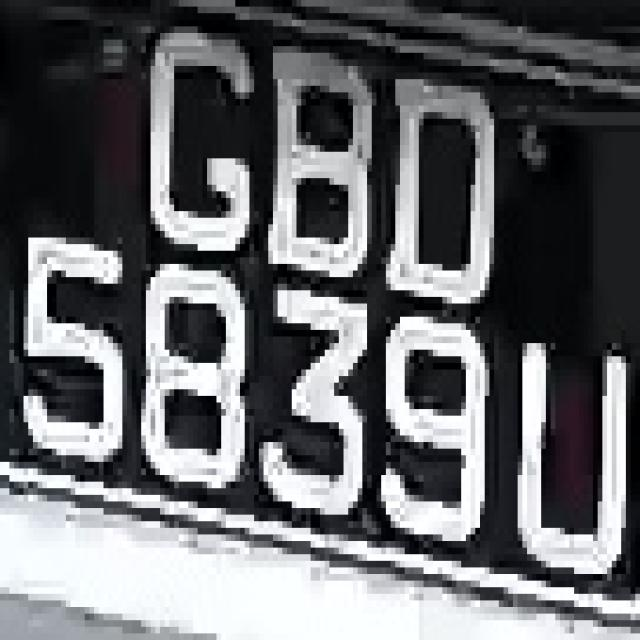3: (268, 251, 372, 521)
5: (14, 191, 127, 495)
8: (132, 244, 264, 508)
9: (367, 284, 485, 561)
B: (268, 39, 376, 284)
D: (382, 66, 489, 323)
G: (132, 7, 268, 264)
U: (504, 304, 636, 600)
